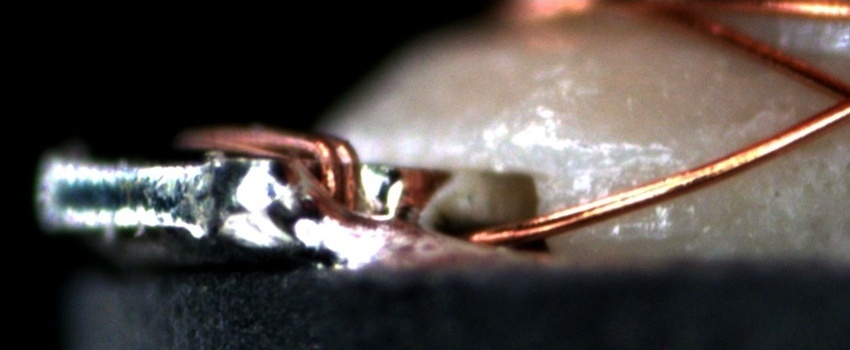CL: (813, 72, 850, 122)
DL: (541, 121, 679, 185)
TE: (167, 124, 364, 219)
